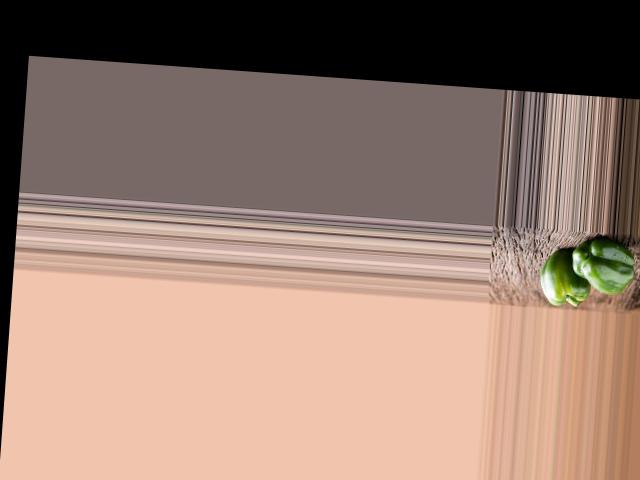bell_pepper: (567, 238, 635, 297)
